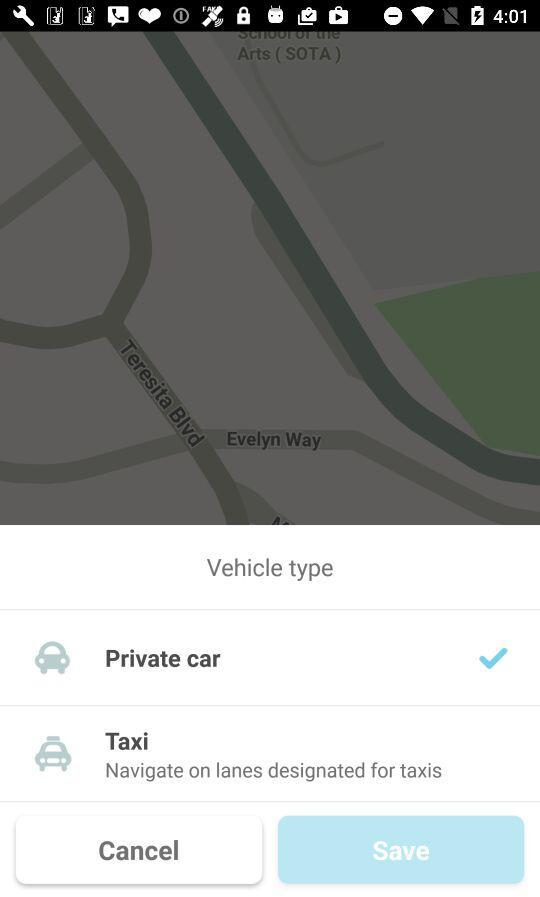Icon: (478, 647, 509, 670)
Image: (35, 736, 74, 772), (35, 641, 72, 675)
Modal: (1, 525, 540, 897)
Text: (106, 761, 442, 783), (207, 556, 335, 582), (106, 648, 222, 668), (105, 731, 150, 751)
TextButton: (16, 816, 264, 885), (278, 816, 525, 885)
UpperTaskBar: (1, 1, 540, 33)
